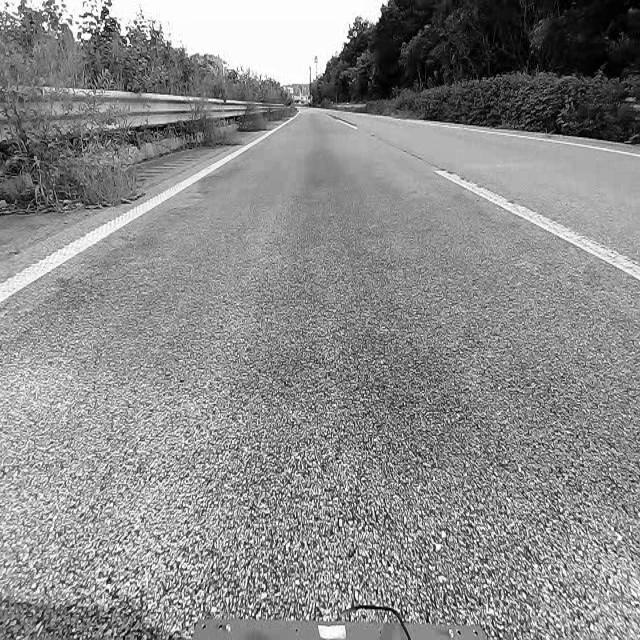Lane: (0, 90, 312, 317), (323, 100, 640, 297), (0, 118, 291, 306), (435, 170, 639, 280), (403, 120, 639, 157), (328, 114, 357, 128)
